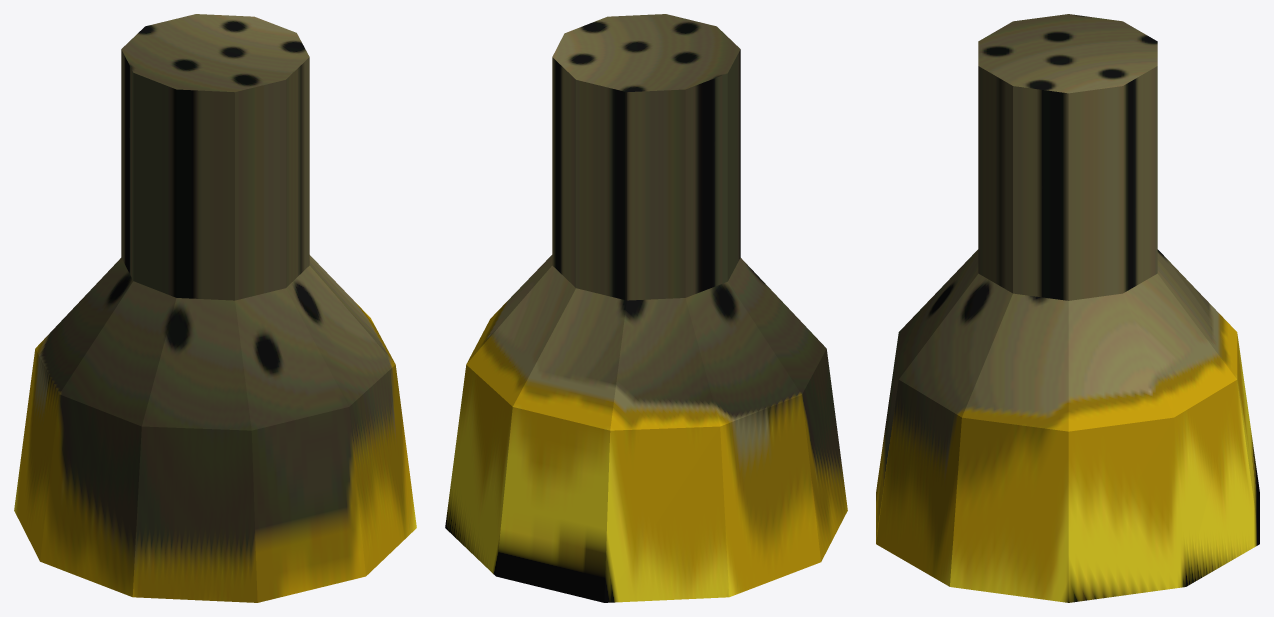
The model's file is SHead.glb.
3 renders of one model, left to right at view 1: azimuth 30°, elevation 25°; view 2: azimuth 150°, elevation 25°; view 3: azimuth 270°, elevation 25°, orthographic.
Parts seen in each view (by area): view 1: SHead; view 2: SHead; view 3: SHead.
Part boxes in pixels (x1,y1,x2,y2): SHead: (14, 14, 416, 602); SHead: (445, 14, 847, 602); SHead: (876, 14, 1259, 602).
Bounding box in the file's own units: 96.22 × 122 × 91.7.
1 material, 1 textured.
